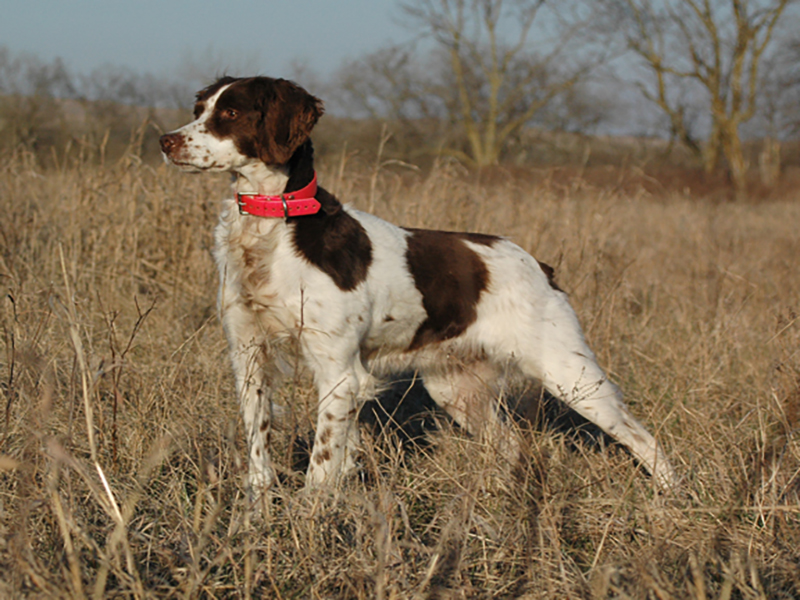cane da caccia: (142, 62, 674, 496)
